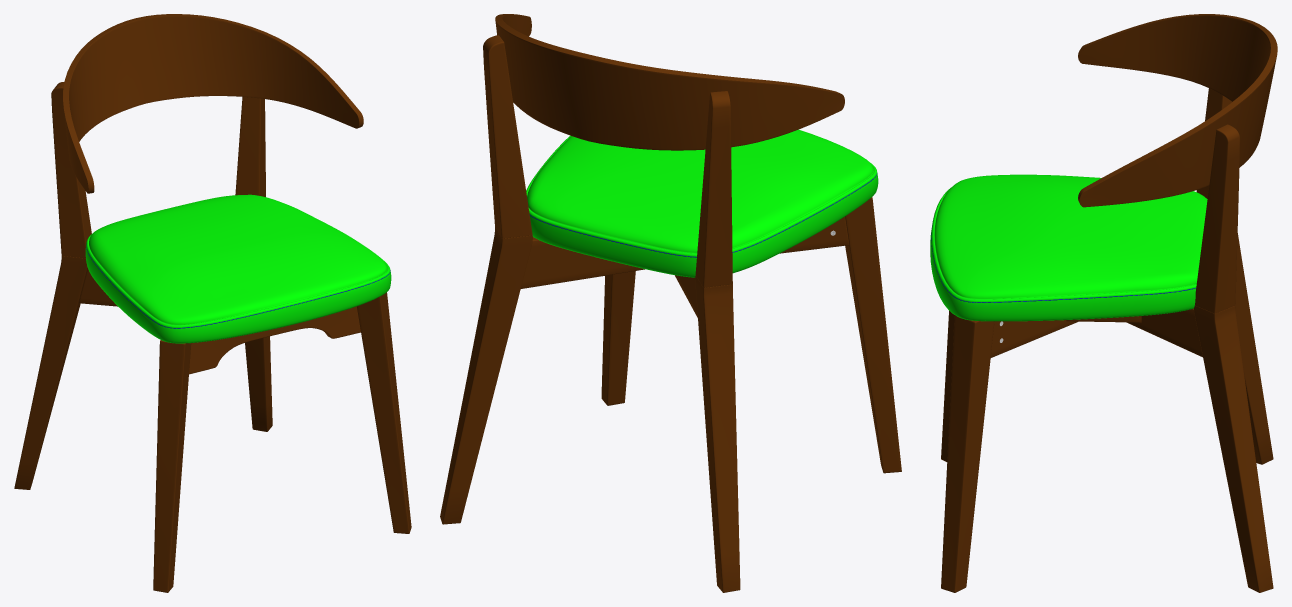
The model's file is EmaWoodVariant.glb.
3 views of the same model, side by side, from view 1: azimuth 30°, elevation 25°; view 2: azimuth 150°, elevation 25°; view 3: azimuth 270°, elevation 25° (orthographic). The views are drawn at different scales.
Parts seen in each view (by area): view 1: EmaWood Chair - Seat, EmaWood Chair- Legs, EmaWood Chair - BackWood; view 2: EmaWood Chair- Legs, EmaWood Chair - Seat, EmaWood Chair - BackWood; view 3: EmaWood Chair - Seat, EmaWood Chair- Legs, EmaWood Chair - BackWood.
Boxes of the visible parts, left/top/right/bottom form: EmaWood Chair - Seat: left=85, top=194, right=391, bottom=343; EmaWood Chair- Legs: left=14, top=82, right=411, bottom=592; EmaWood Chair - BackWood: left=63, top=14, right=363, bottom=193; EmaWood Chair- Legs: left=440, top=35, right=901, bottom=592; EmaWood Chair - Seat: left=526, top=129, right=878, bottom=277; EmaWood Chair - BackWood: left=495, top=14, right=844, bottom=150; EmaWood Chair - Seat: left=930, top=174, right=1207, bottom=321; EmaWood Chair- Legs: left=941, top=88, right=1273, bottom=592; EmaWood Chair - BackWood: left=1078, top=14, right=1277, bottom=207.
Bounding box in the file's own units: 0.5104 × 0.769 × 0.5087.
